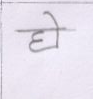e_matra: (44, 11, 64, 28)
